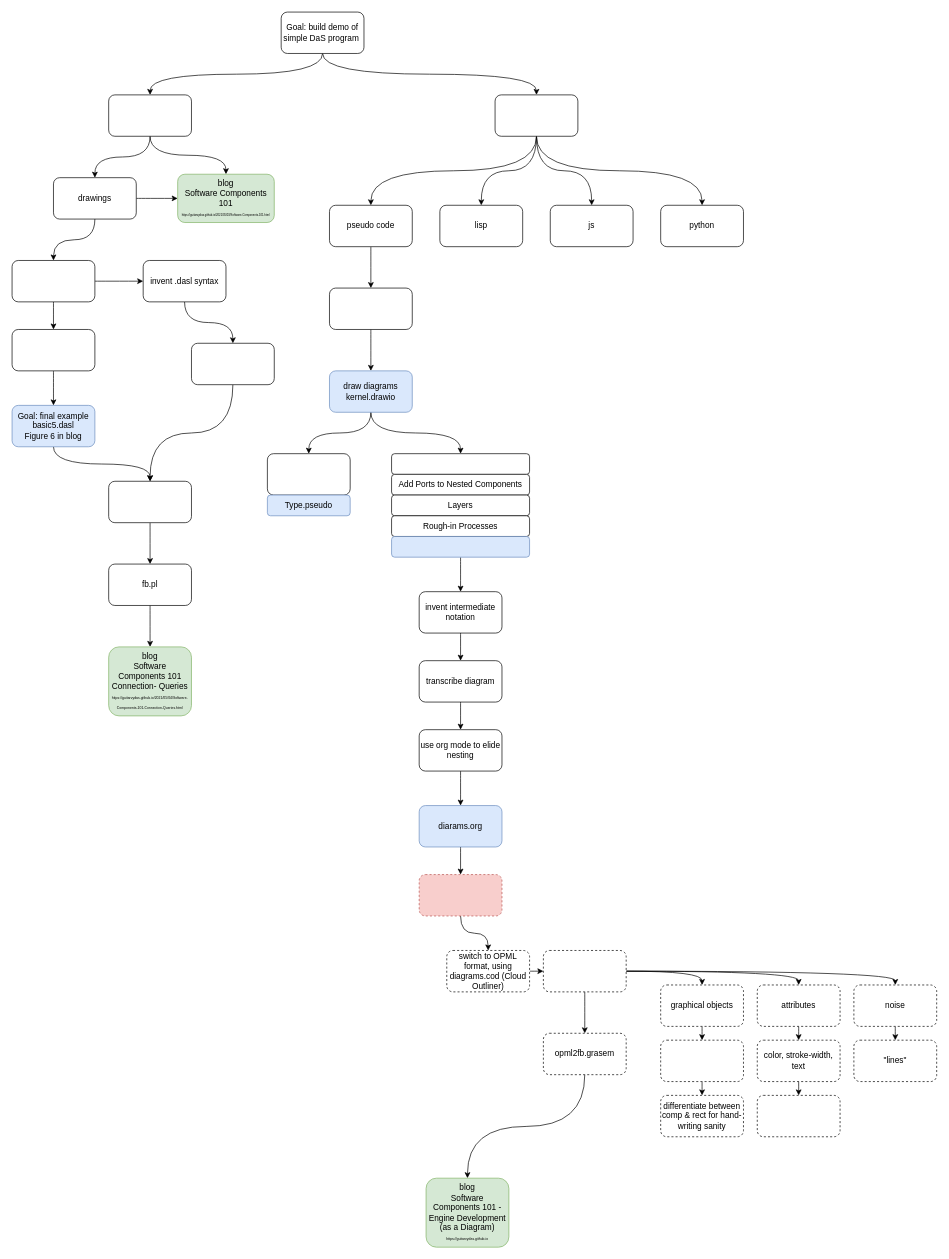
Image size: 949x1259. Some labels were removed from this diagram. The box of each missing label's shape, as (x1, y1, x2, y2) in pixels:
circle, comp, rect, cylinder, arrowBegin, arrowEnd: (660, 1039, 743, 1082)
color=green color=yellow: (757, 1095, 840, 1137)
dasl.grasem: (191, 343, 274, 385)
Data & Types: (267, 453, 350, 495)
engine Goal: build support code for .DASL programs: (494, 94, 578, 136)
Goal: build several simple examples, increasing complexity basic[1-5]: (108, 94, 191, 136)
Goal: successive examples basic[1-4].dasl: (11, 329, 95, 371)
hand compile: (11, 260, 95, 302)
Nested Components: (391, 453, 530, 474)
Rough-in Processes Labelled: (391, 536, 530, 557)
subdirectory: (329, 287, 412, 329)
transpiler: (108, 481, 191, 523)
transpiler diagrams.org -> diagrams.fb: (418, 874, 502, 916)
use 1-letter synonyms for graphical objects for hand-written graphs: (543, 950, 626, 992)
